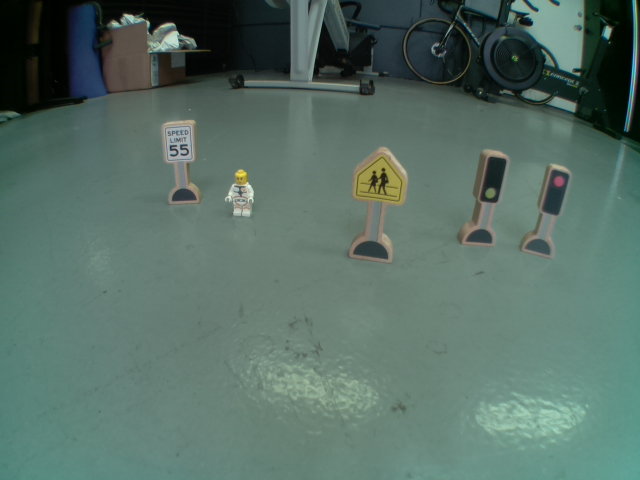Green Traffic Light: (477, 149, 506, 205)
Red Traffic Light: (537, 162, 570, 220)
Speed Limit 55: (159, 118, 197, 166)
YIELD: (350, 147, 407, 208)
person: (223, 168, 259, 219)
